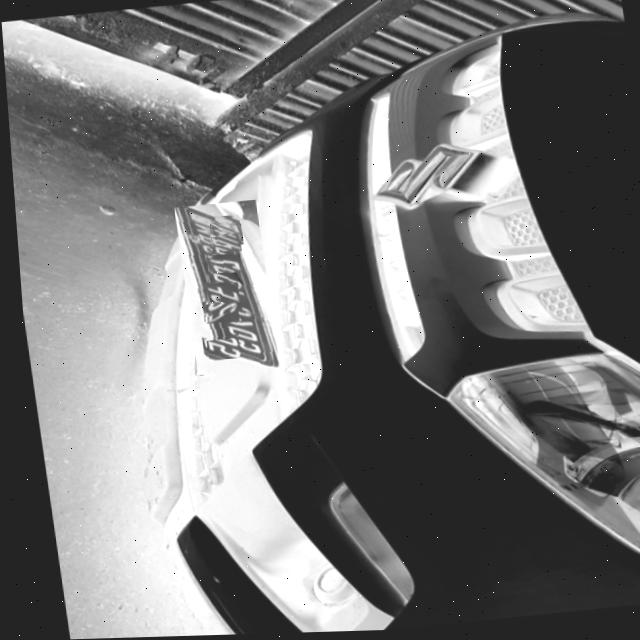0: (198, 328, 234, 351), (203, 245, 235, 269)
5: (199, 303, 233, 325), (200, 339, 234, 361)
7: (203, 255, 236, 276)
9: (199, 315, 233, 335)
C: (201, 272, 234, 296)
F: (200, 283, 234, 306)
IND: (210, 217, 236, 236)
Indian_registered: (170, 208, 268, 368)
M: (205, 224, 238, 248)
P: (205, 235, 237, 255)
